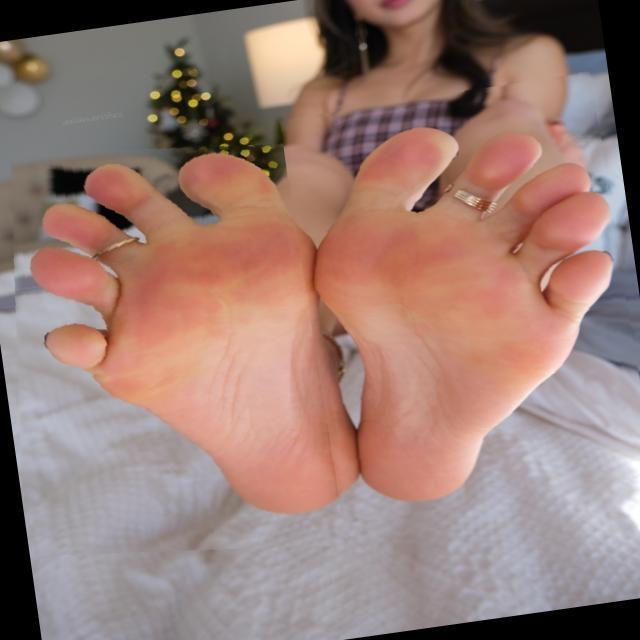Barefoots: (20, 126, 365, 521), (307, 106, 640, 507)
